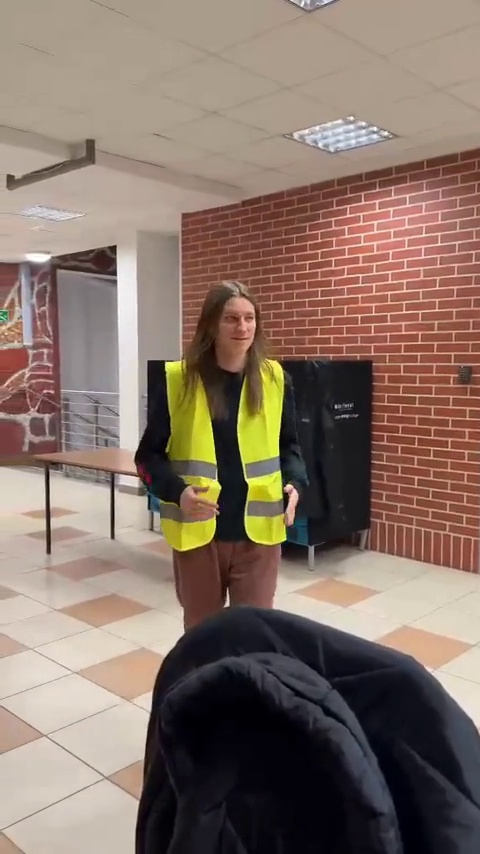vest: (136, 283, 312, 621)
